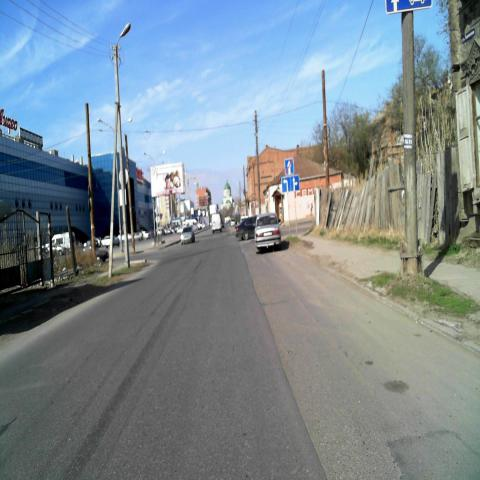5_15_2_2: (282, 174, 299, 192)
